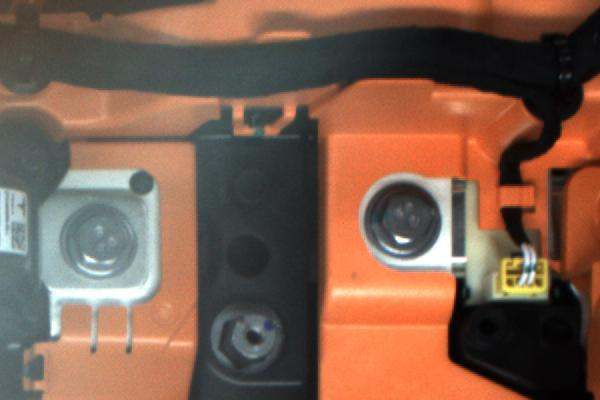nut_b: (355, 173, 456, 254), (58, 200, 139, 279)
